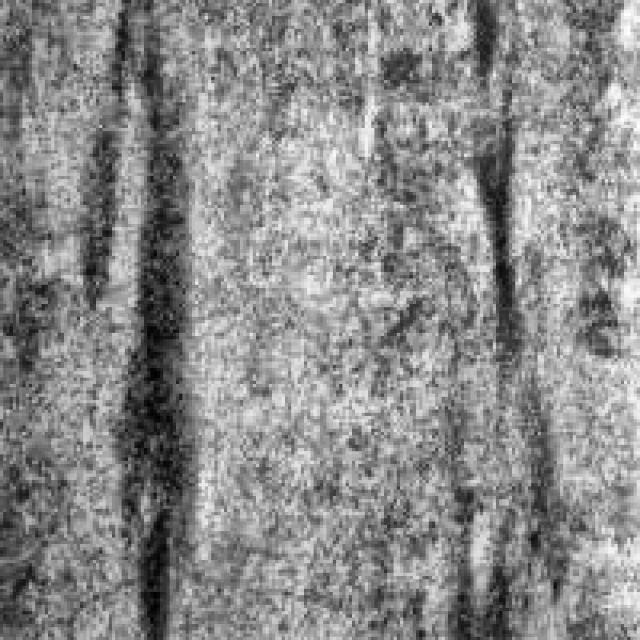Patches: (92, 9, 196, 598), (464, 140, 531, 362)
